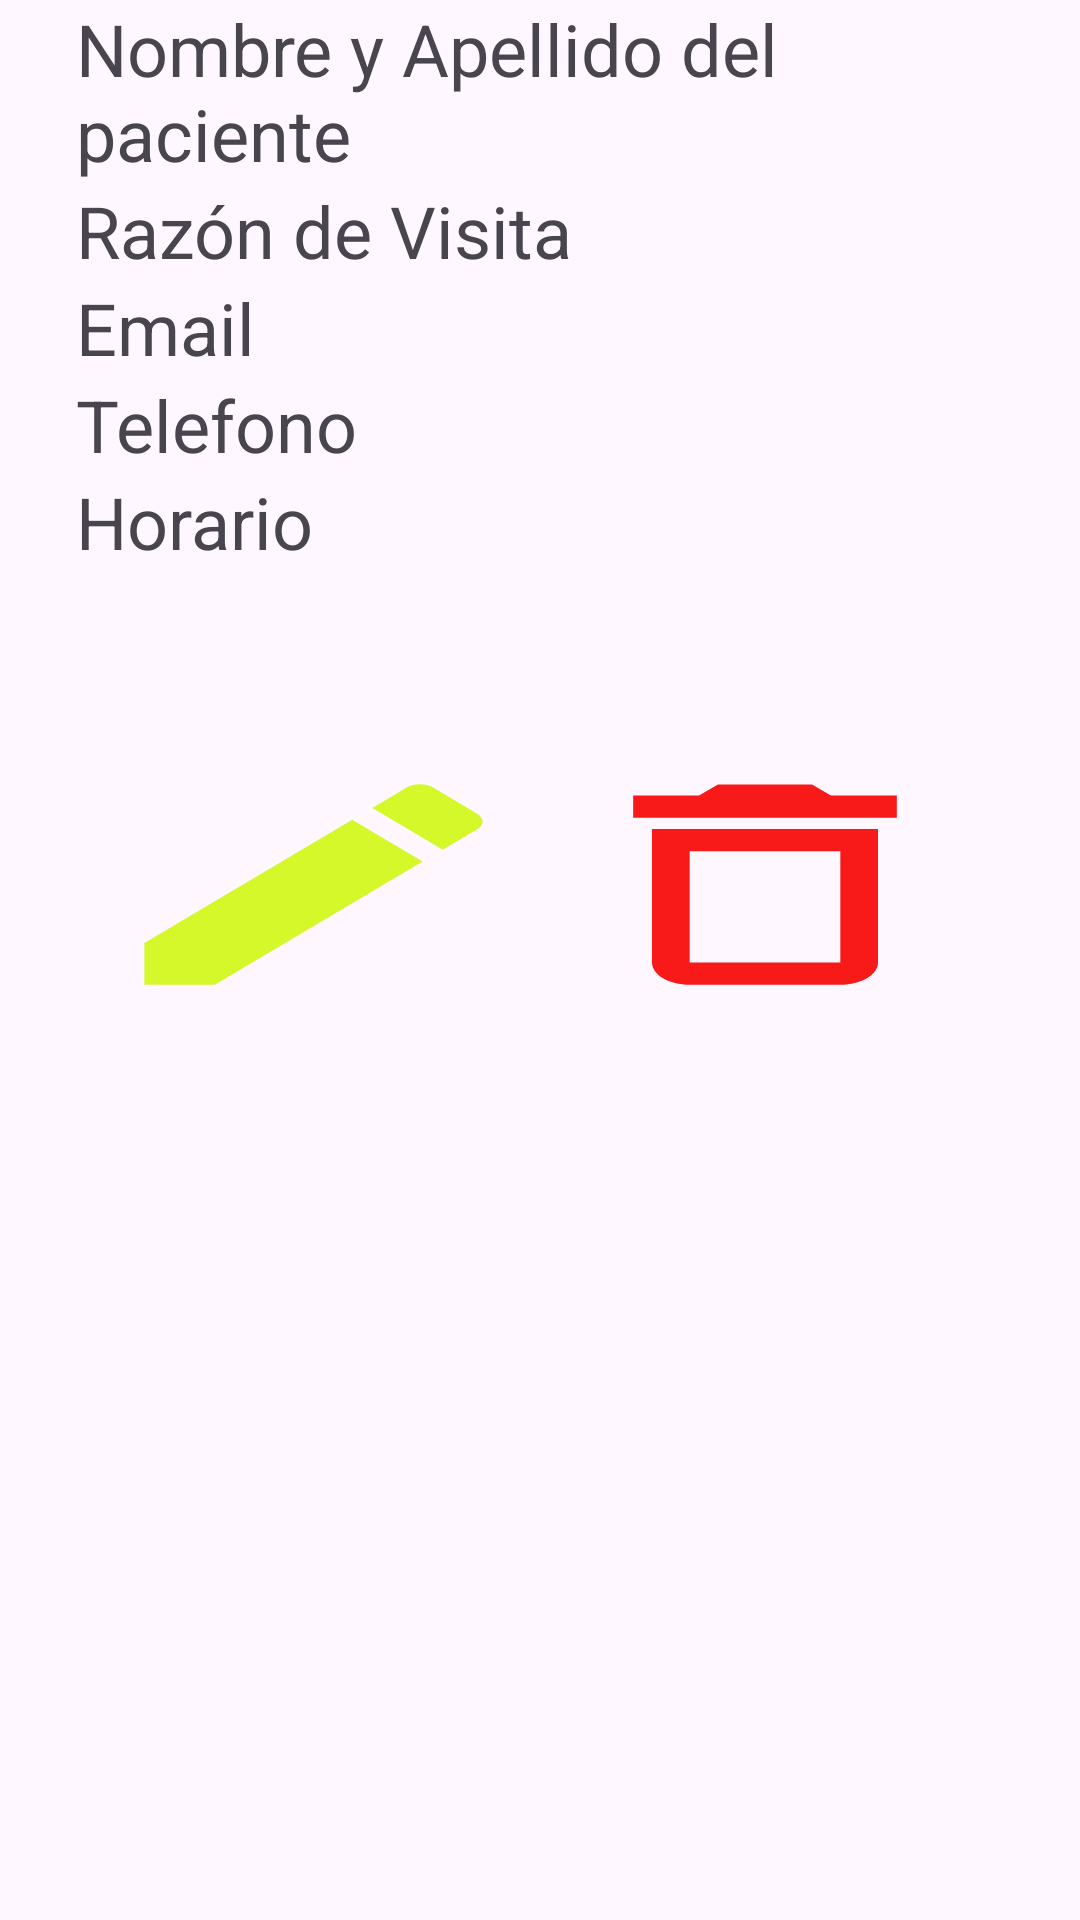

Named icons in this screenshot (1080px x 1920px) and their bounding boxes, (x1, y1, x2, y2):
delete: (633, 784, 897, 985)
